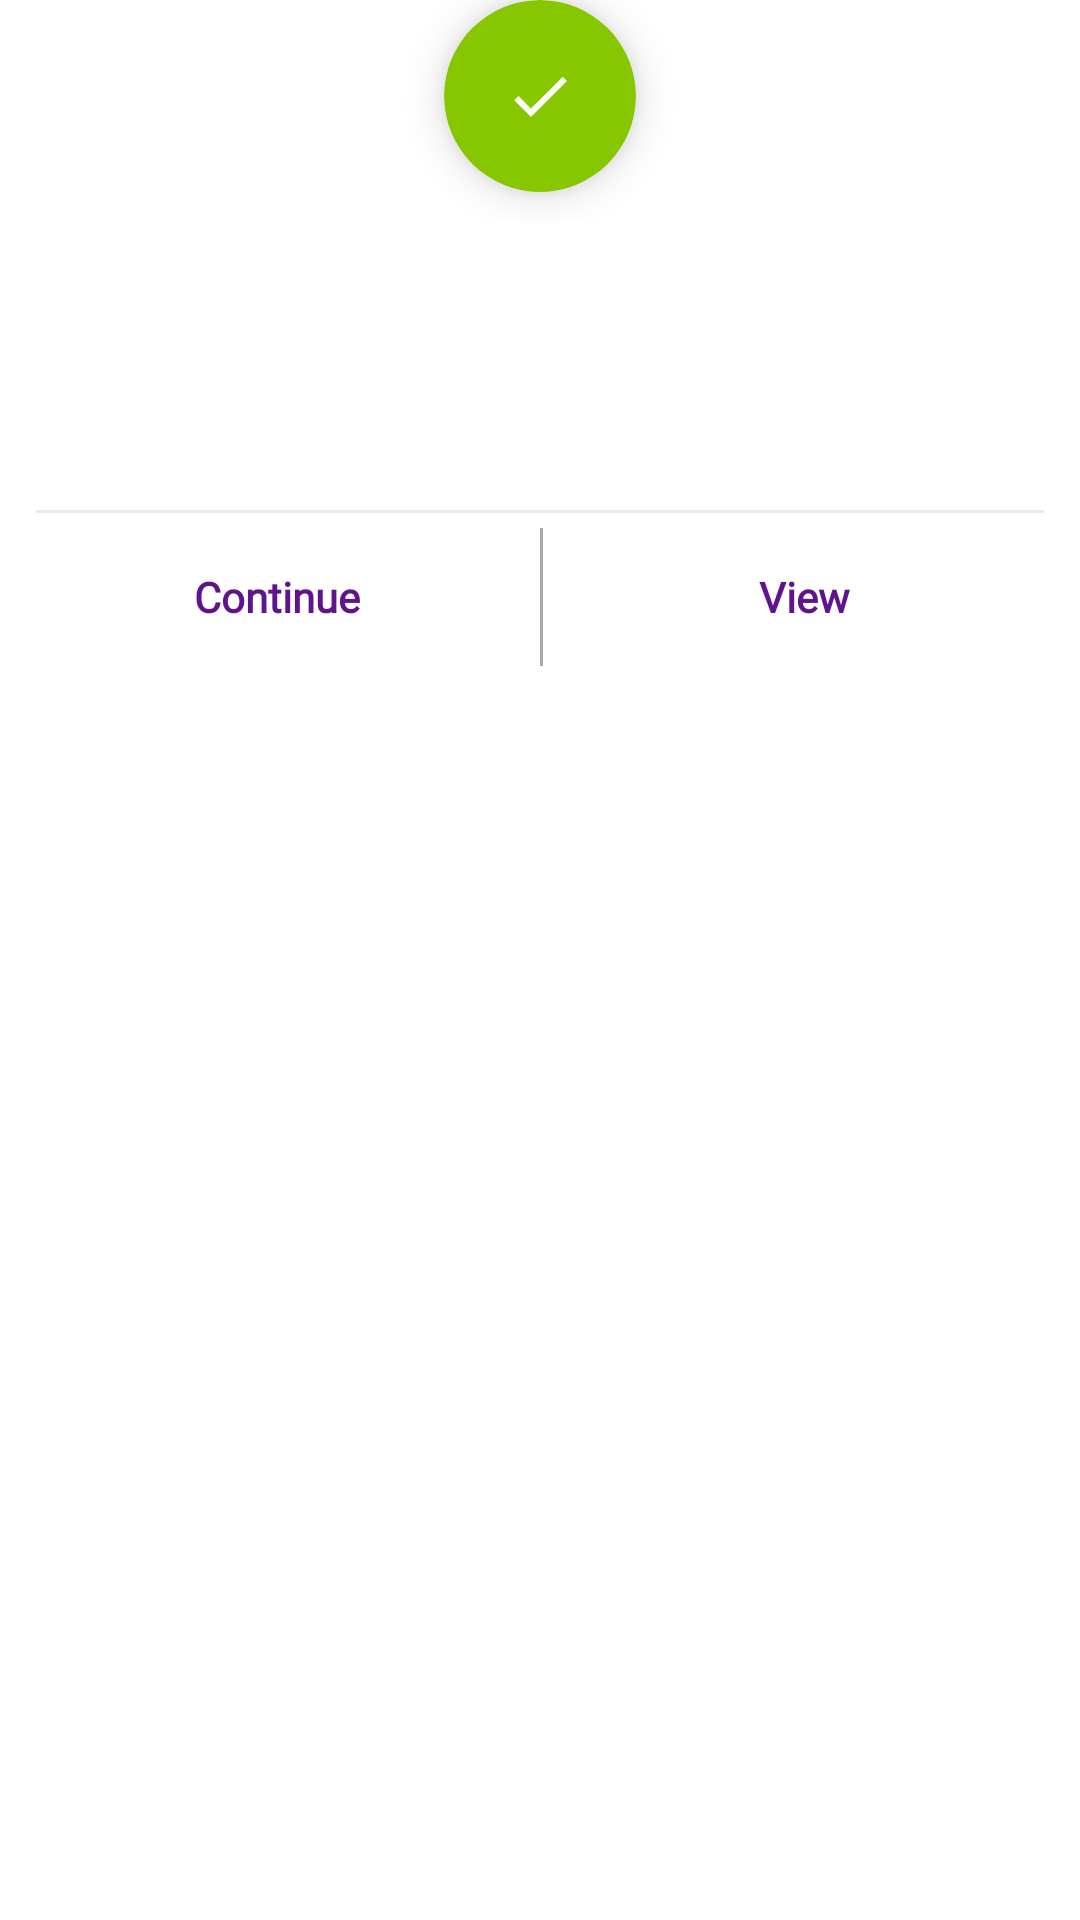

Point at icon controls on the screen. Image size 1080 × 1920, points as (x=x, y=y).
check: (x=540, y=97)
